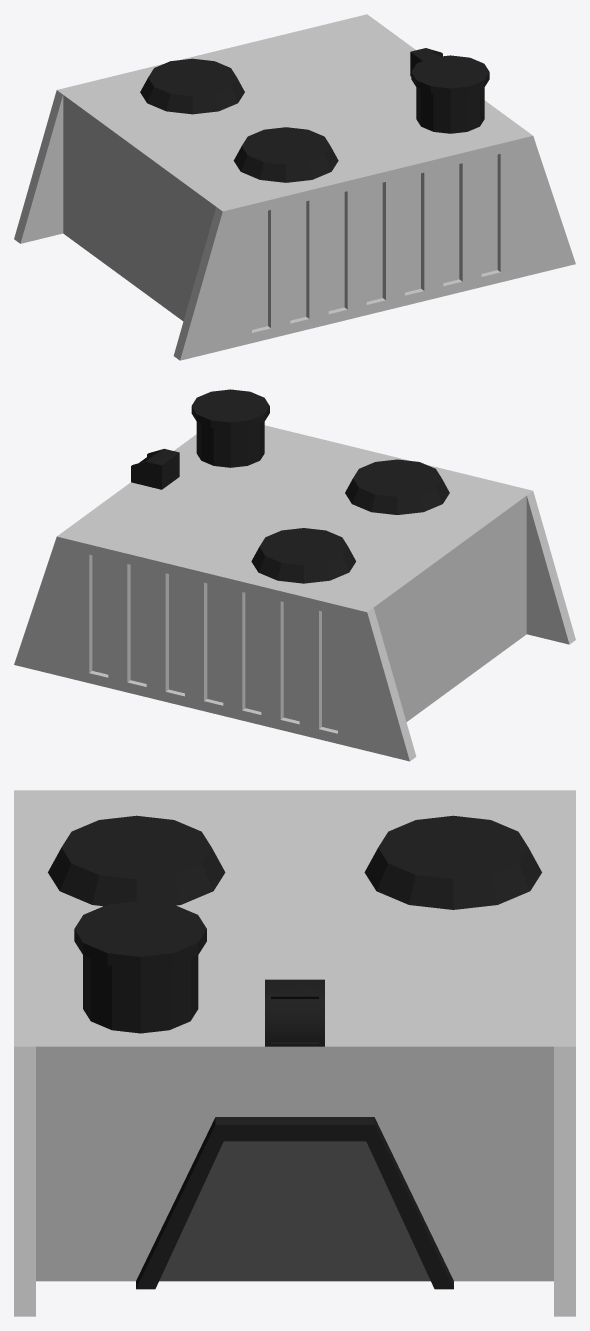
Rendered from Haner.fbx.
3 views of the same model, one above another, from view 1: azimuth 30°, elevation 25°; view 2: azimuth 150°, elevation 25°; view 3: azimuth 270°, elevation 25° (orthographic). The views are drawn at different scales.
Parts seen in each view (by area): view 1: pCube2; view 2: pCube2; view 3: pCube2.
Boxes of the visible parts, x1,y1,x2,y2 form: pCube2: (14,14,575,360); pCube2: (14,389,575,761); pCube2: (14,790,575,1316).
Bounding box in the file's own units: 13.44 × 6.04 × 9.76.
